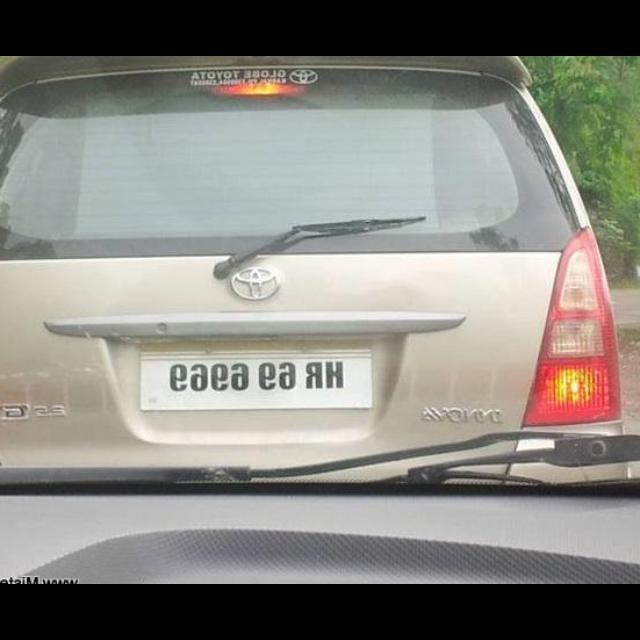vehicles: (0, 56, 628, 478)
